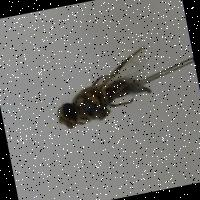Oriental-fruit-fly: (39, 36, 162, 134)
